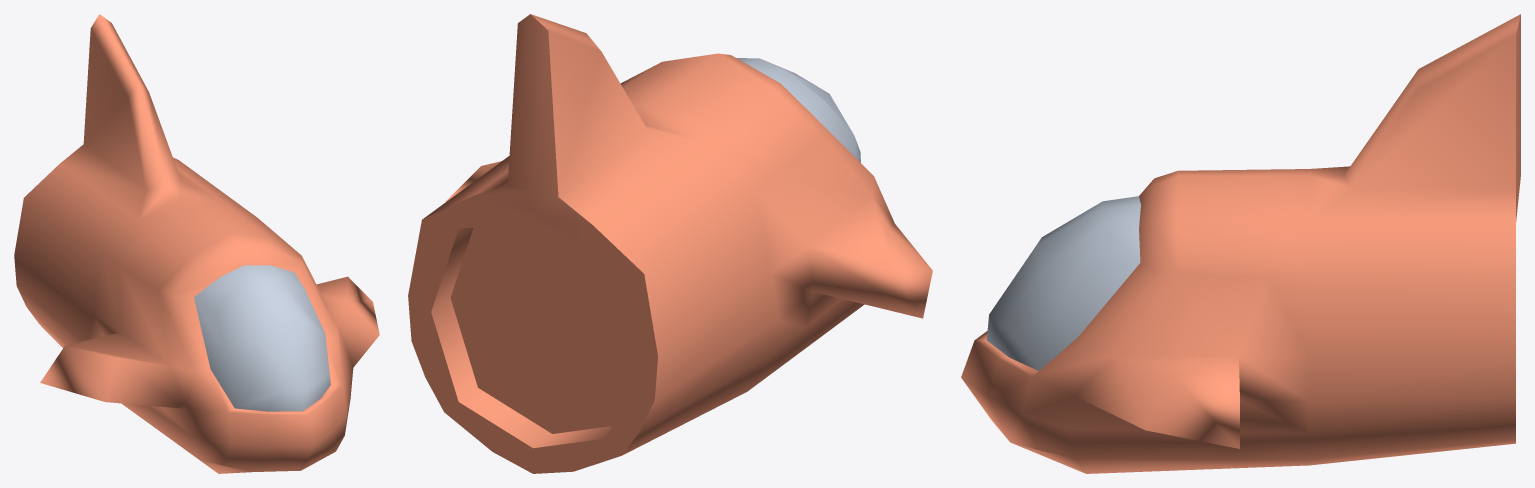
The model's file is Ship.fbx.
The picture shows the model from 3 angles, left to right: view 1: azimuth 30°, elevation 25°; view 2: azimuth 150°, elevation 25°; view 3: azimuth 270°, elevation 25°; orthographic projection. The views are drawn at different scales.
Parts seen in each view (by area): view 1: pCube6; view 2: pCube6; view 3: pCube6.
Part boxes in pixels (<box>): pCube6: <box>14,14,379,473</box>; pCube6: <box>408,14,932,473</box>; pCube6: <box>961,14,1520,473</box>.
Size of the model in its own units: 16.3 by 15.69 by 18.07.
